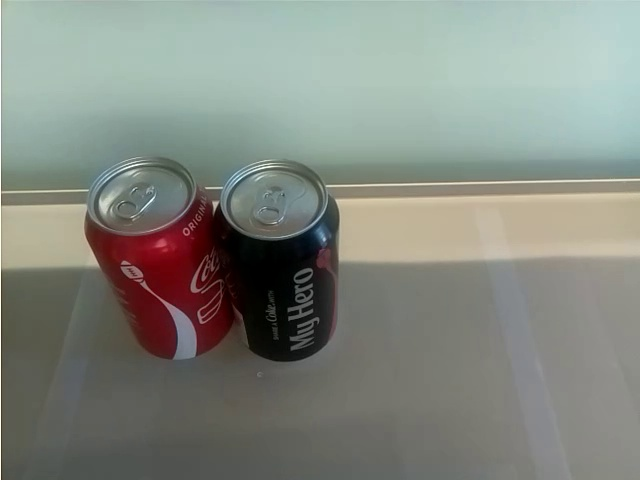cocacola: (86, 157, 228, 361)
cocacola-zero: (219, 161, 340, 365)
